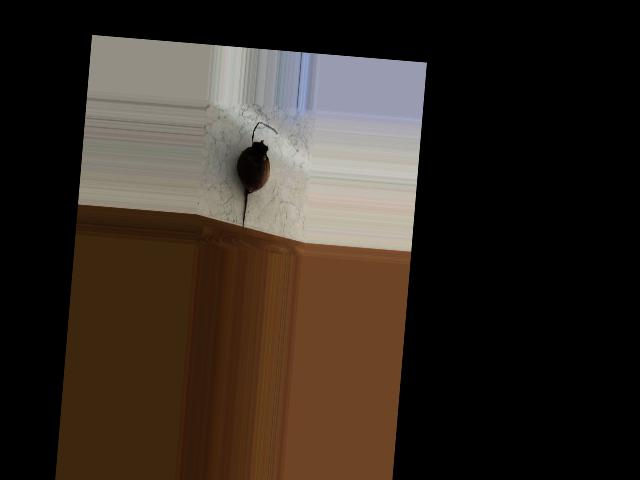beet: (231, 121, 277, 231)
